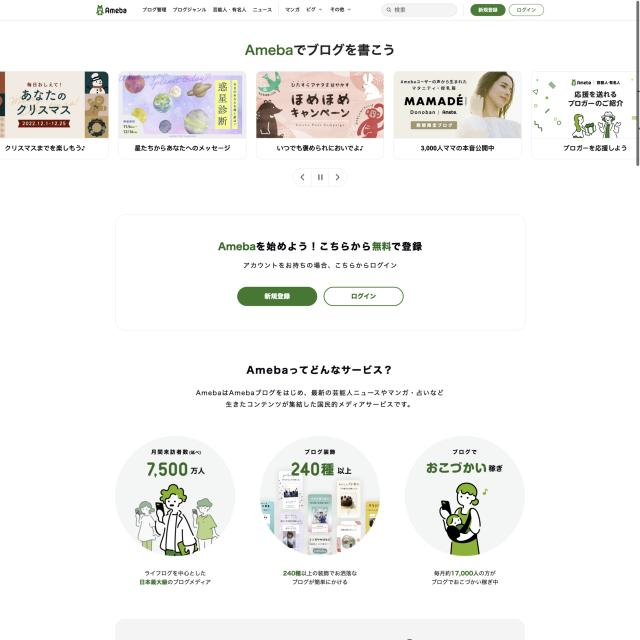logo: (242, 38, 398, 62)
